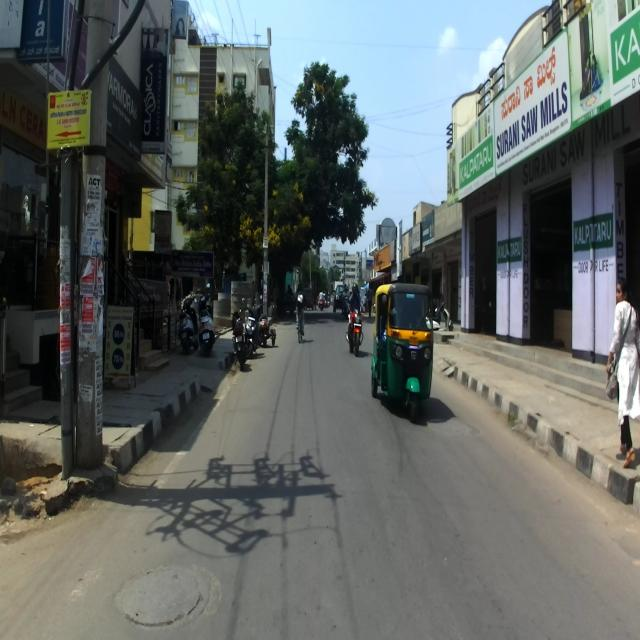autorickshaw: (370, 282, 438, 422)
motorcycle: (230, 311, 248, 368)
scooter: (196, 294, 216, 352)
